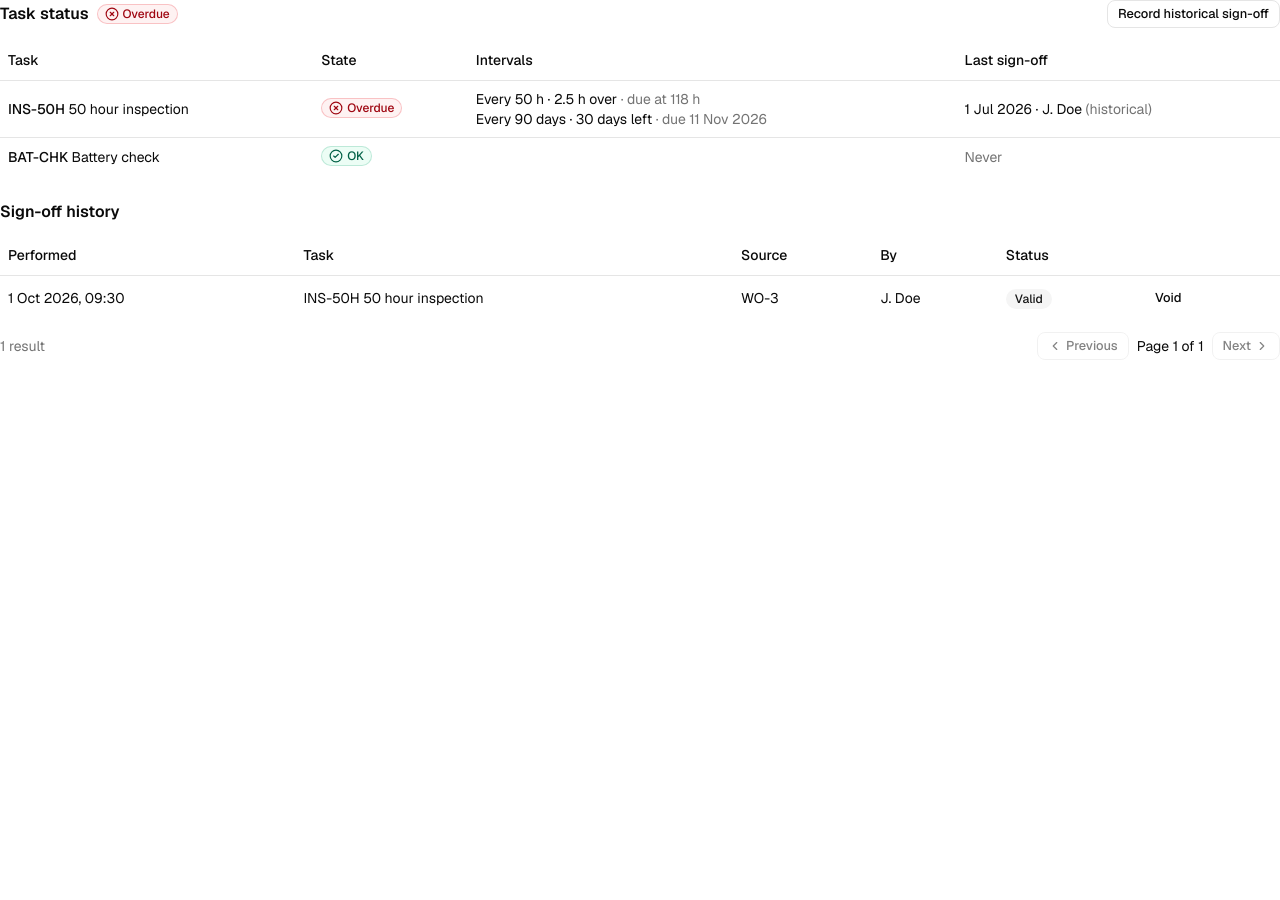
Scenario: AircraftMaintenance › voids a sign-off with a reason and refreshes maintenance data
Click the button with aria-label "Void INS-50H sign-off".
click(1168, 298)  # box [1144,284,1192,312]
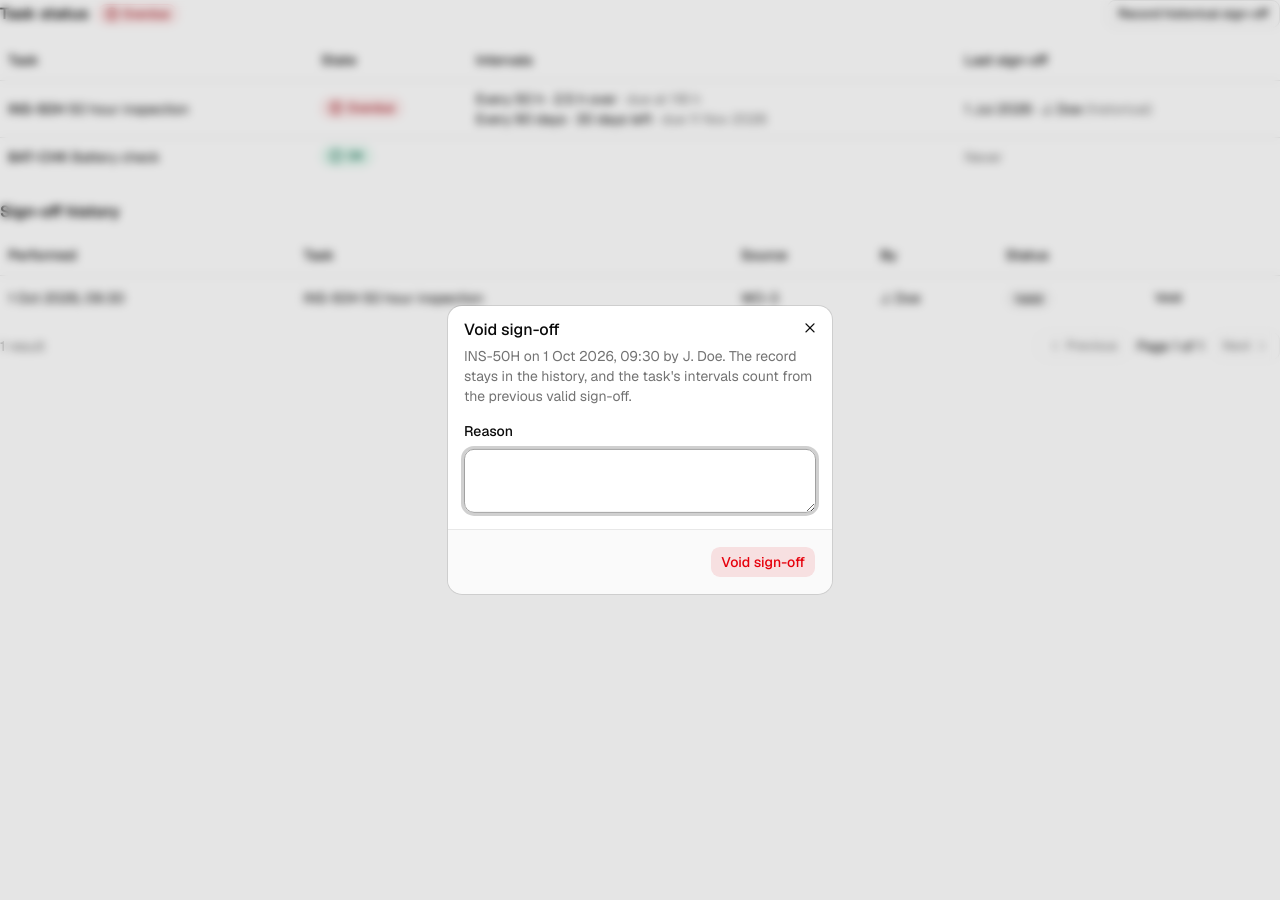
Click the button "Void sign-off".
click(763, 562)  # box [710,546,816,578]
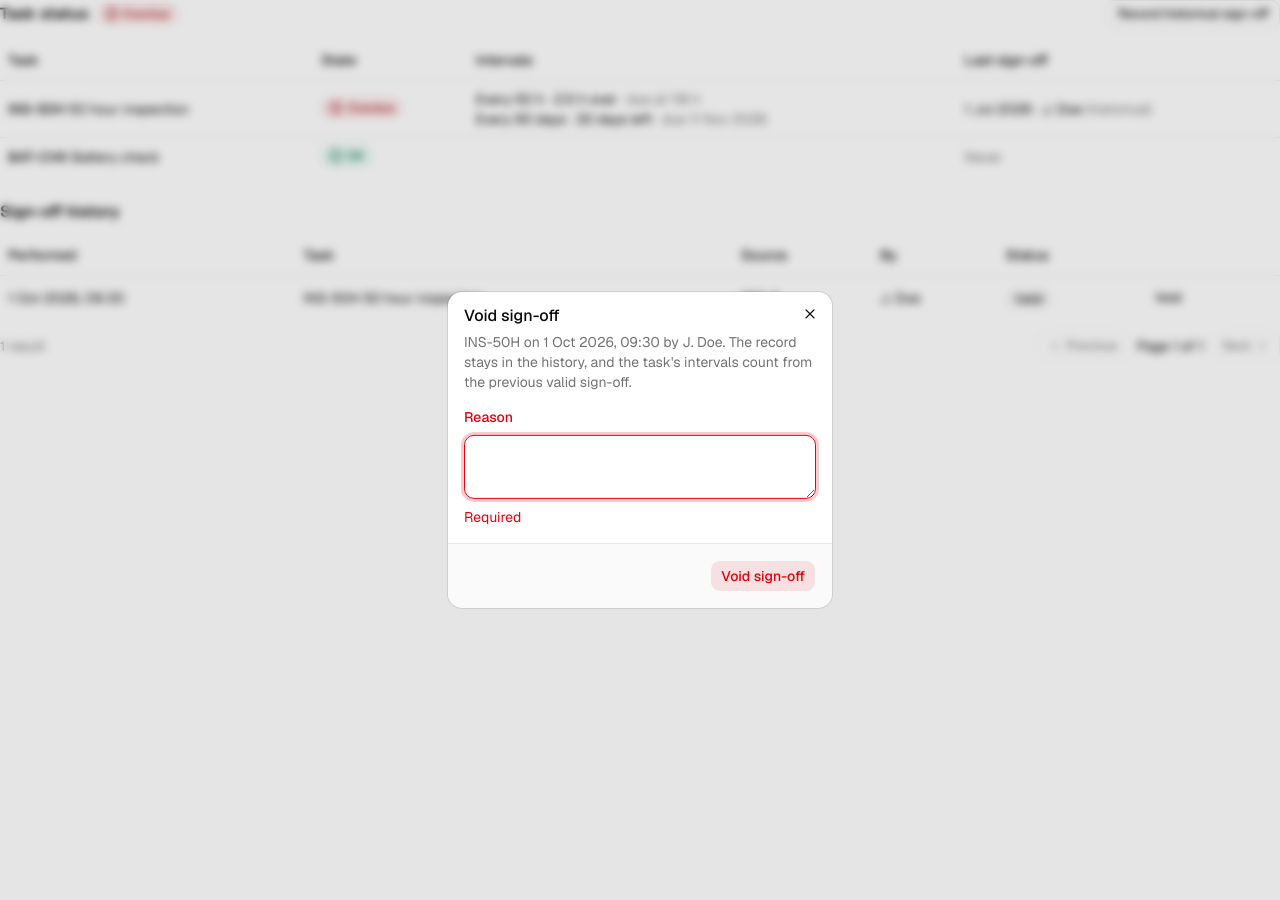
Expected: the text "Required" is shown, [464,508,521,526]
Type "Wrong aircraft" into the text box labelled "Reason".
click(640, 467); type("Wrong aircraft")  # box [464,435,816,499]
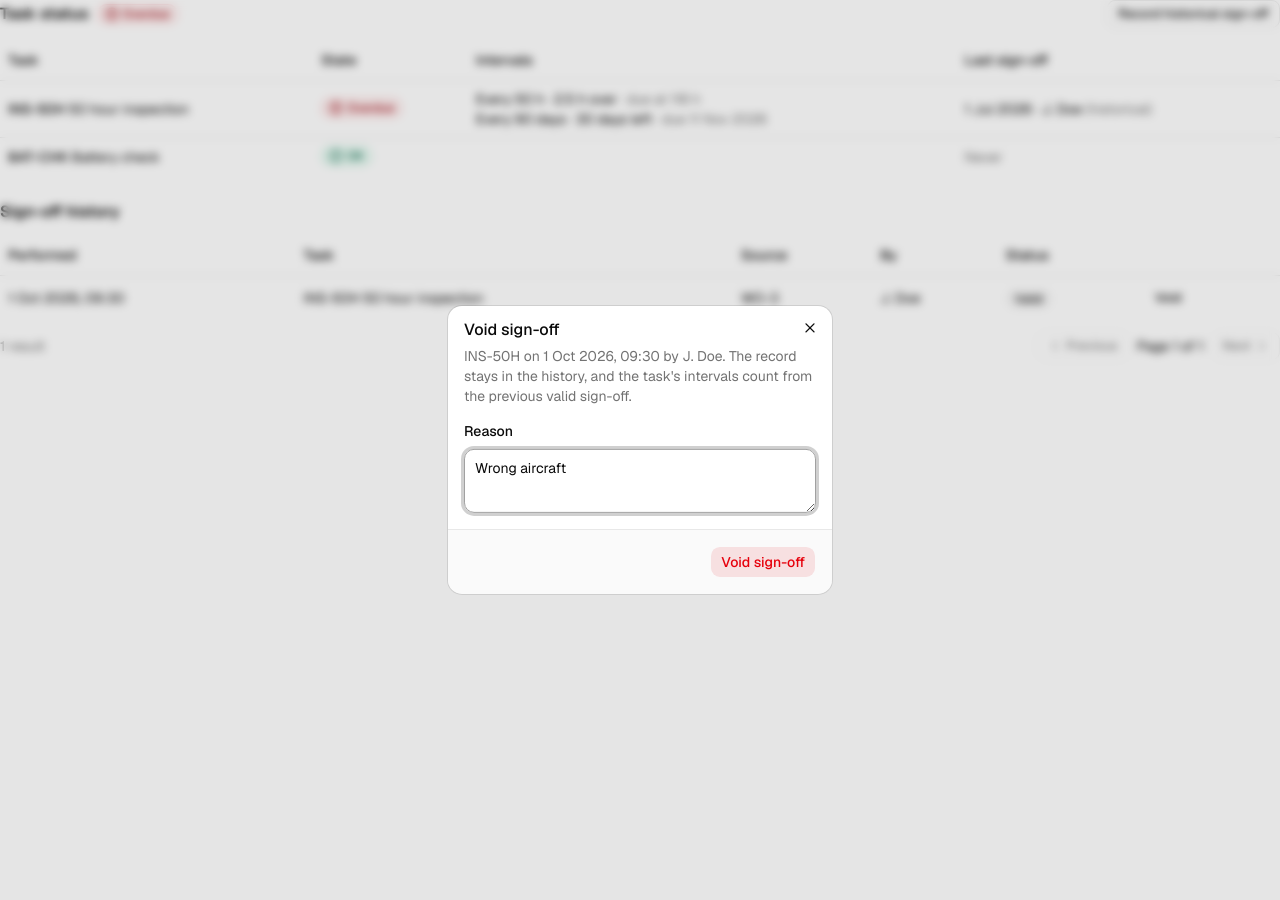
Click the button "Void sign-off".
click(763, 562)  # box [710,546,816,578]
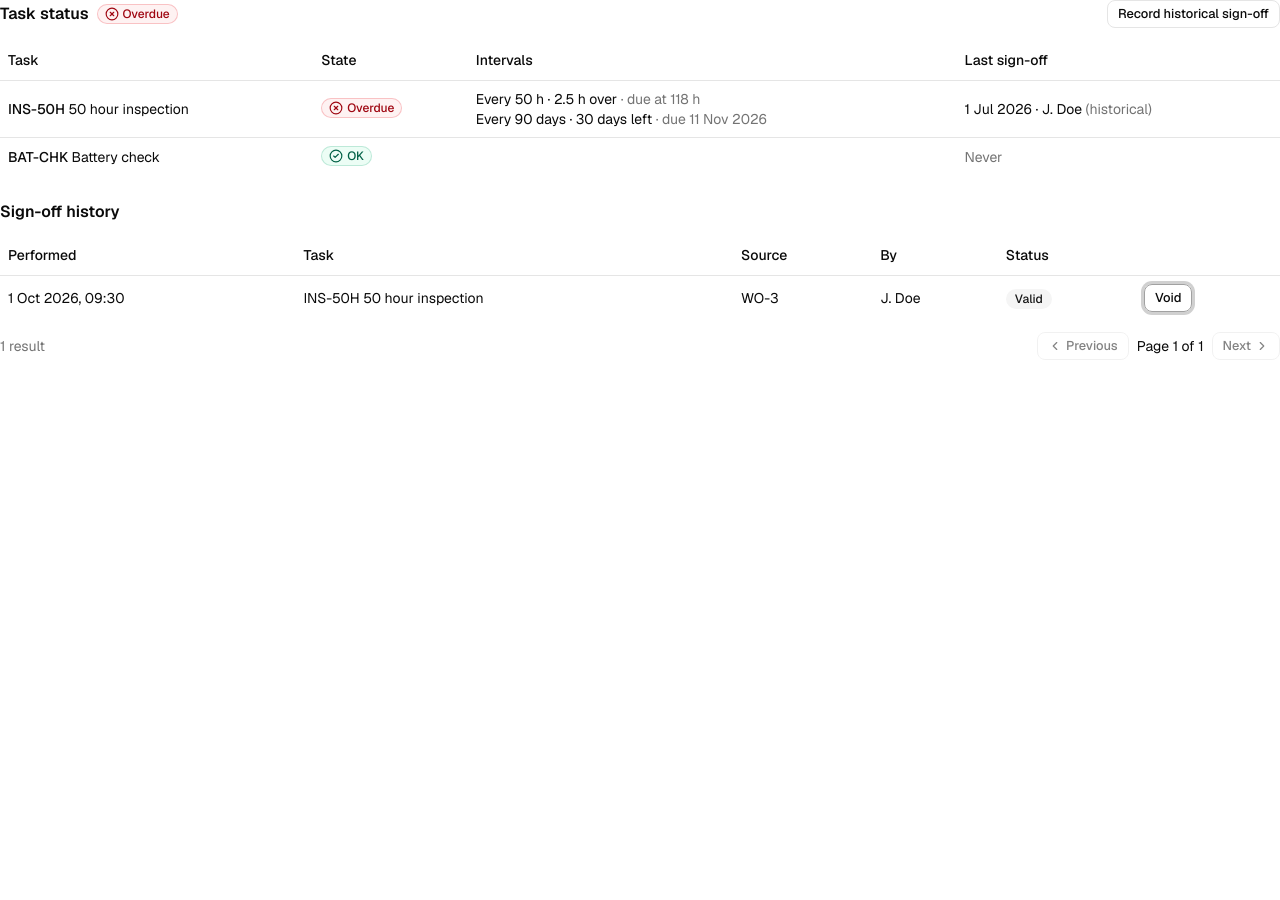
Expected: the dialog is gone
